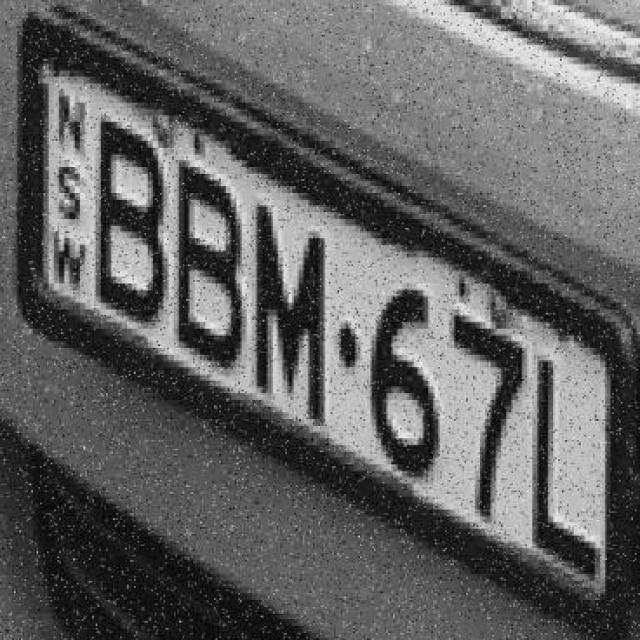licenseplate: (8, 0, 640, 640)
